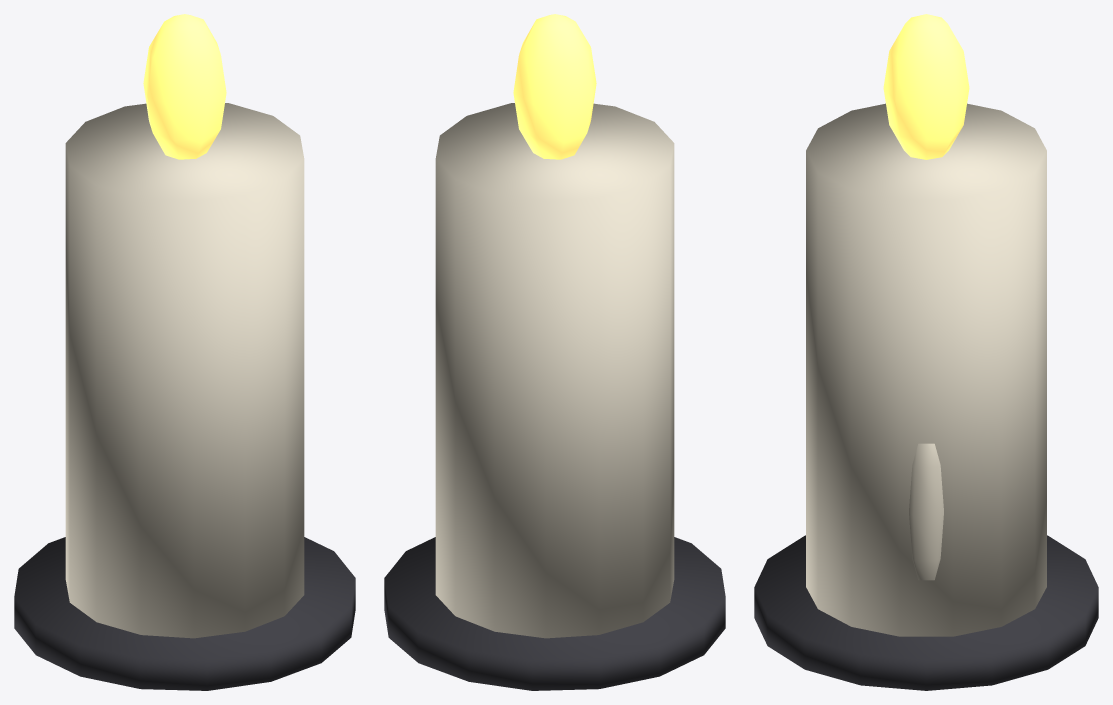
The model's file is candle_group_pillar_big.glb.
3 views of the same model, side by side, from view 1: azimuth 30°, elevation 25°; view 2: azimuth 150°, elevation 25°; view 3: azimuth 270°, elevation 25° (orthographic).
Visible parts, largest first — view 1: GD_candle_group_pillar_big__m0, GD_candle_group_pillar_big__m1, GD_candle_group_pillar_big__m2; view 2: GD_candle_group_pillar_big__m0, GD_candle_group_pillar_big__m1, GD_candle_group_pillar_big__m2; view 3: GD_candle_group_pillar_big__m0, GD_candle_group_pillar_big__m1, GD_candle_group_pillar_big__m2.
Boxes of the visible parts, <box> form: GD_candle_group_pillar_big__m0: <box>65,103,304,638</box>; GD_candle_group_pillar_big__m1: <box>14,537,355,690</box>; GD_candle_group_pillar_big__m2: <box>143,14,226,159</box>; GD_candle_group_pillar_big__m0: <box>435,103,674,638</box>; GD_candle_group_pillar_big__m1: <box>384,537,725,690</box>; GD_candle_group_pillar_big__m2: <box>513,14,596,159</box>; GD_candle_group_pillar_big__m0: <box>806,103,1046,636</box>; GD_candle_group_pillar_big__m1: <box>754,535,1098,690</box>; GD_candle_group_pillar_big__m2: <box>883,14,969,159</box>.
Bounding box in the file's own units: 0.2 × 0.3875 × 0.2.
